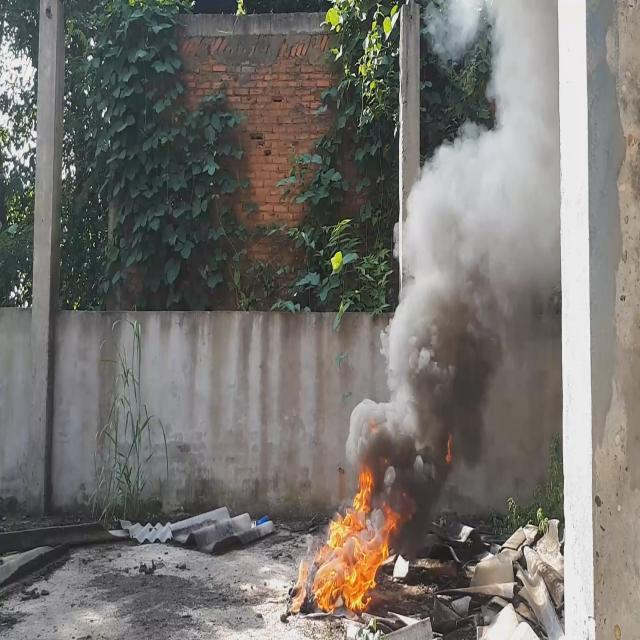Fire: (311, 466, 406, 618)
Smoke: (344, 0, 558, 536)
